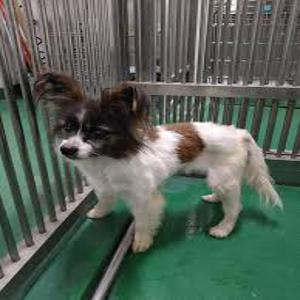yell: (33, 72, 282, 254)
